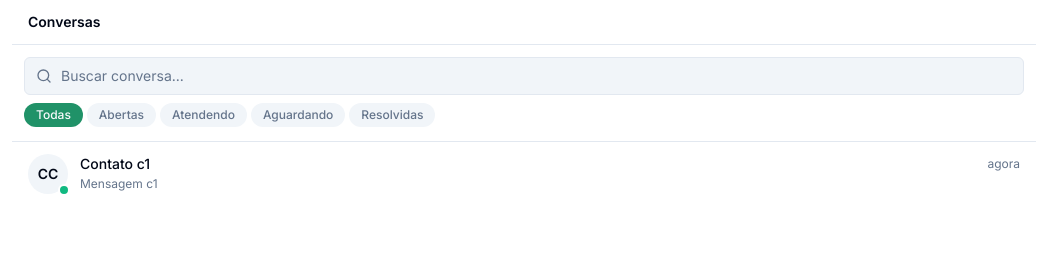
Scenario: ConversationList › exibe "Nenhuma conversa encontrada" quando filtro não retorna resultados
Click the tab with test id "status-filter-resolved" at (392, 115), box top-left (349, 103), bottom-right (436, 127)
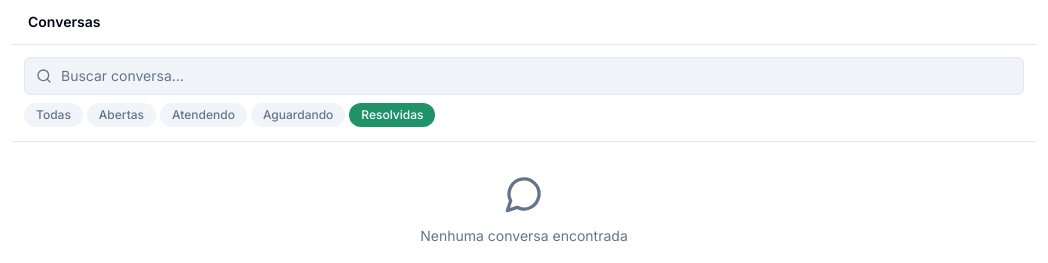
Check: the text "Nenhuma conversa encontrada" is shown, box top-left (420, 226), bottom-right (628, 246)
